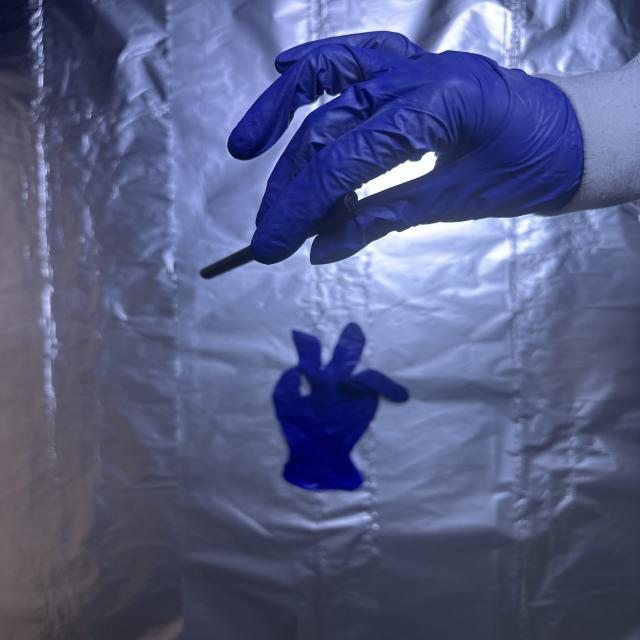gloves_contaminated: (228, 32, 594, 264)
